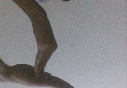hand: (28, 13, 59, 78), (10, 63, 76, 88)
